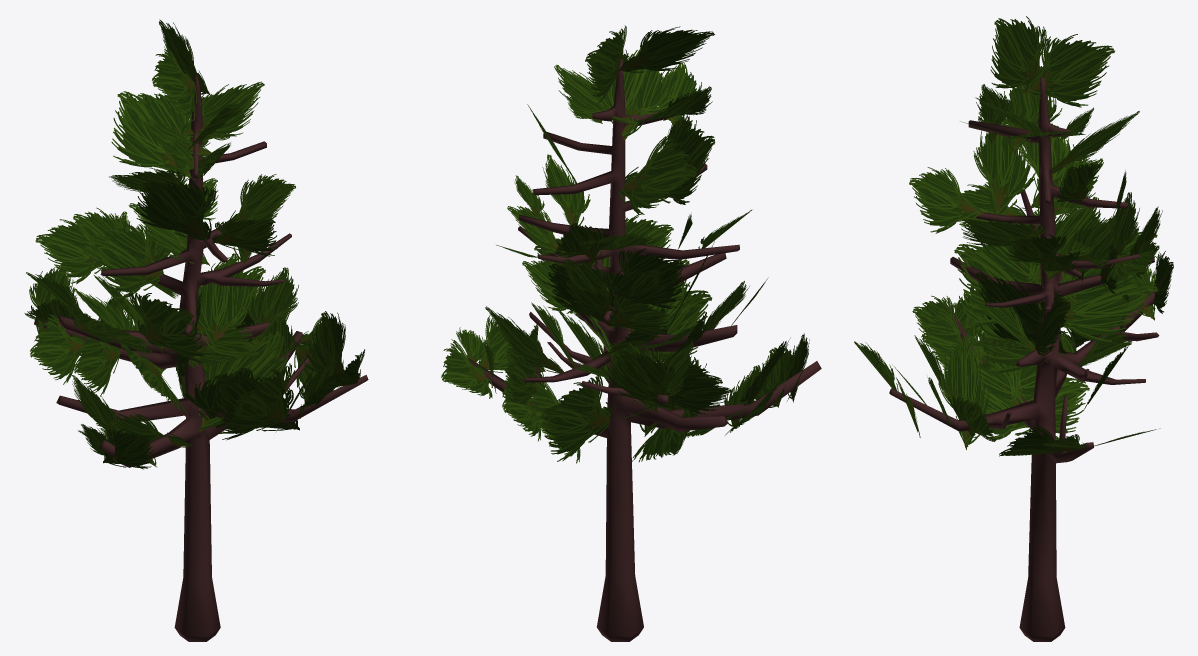
File: tree2.glb
3 views of the same model, side by side, from view 1: azimuth 30°, elevation 25°; view 2: azimuth 150°, elevation 25°; view 3: azimuth 270°, elevation 25° (orthographic). The views are drawn at different scales.
Visible parts, largest first — view 1: leaves, pine_tree-col; view 2: leaves, pine_tree-col; view 3: leaves, pine_tree-col.
Boxes of the visible parts, <box> form: leaves: <box>24,19,364,469</box>; pine_tree-col: <box>34,75,368,641</box>; leaves: <box>441,25,809,463</box>; pine_tree-col: <box>468,58,821,641</box>; leaves: <box>854,16,1173,456</box>; pine_tree-col: <box>889,77,1159,641</box>.
Size of the model in its own units: 4.8 by 9.35 by 4.68.
Materials: 1 (1 with a texture image).
